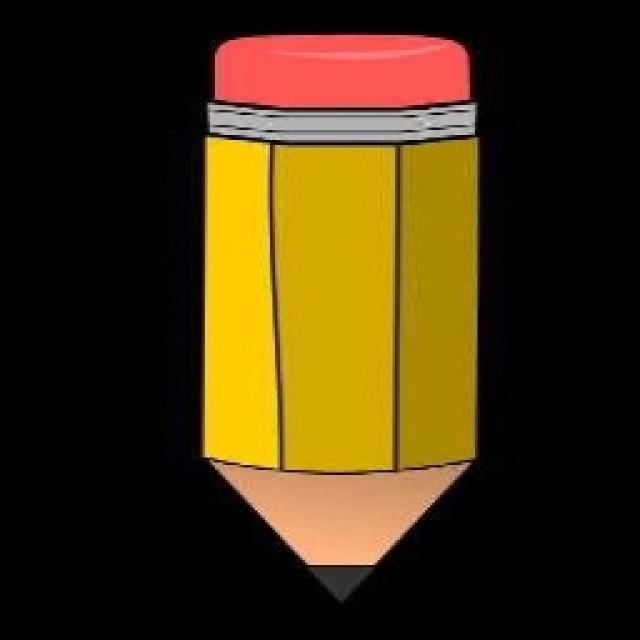pencil: (195, 28, 485, 600)
